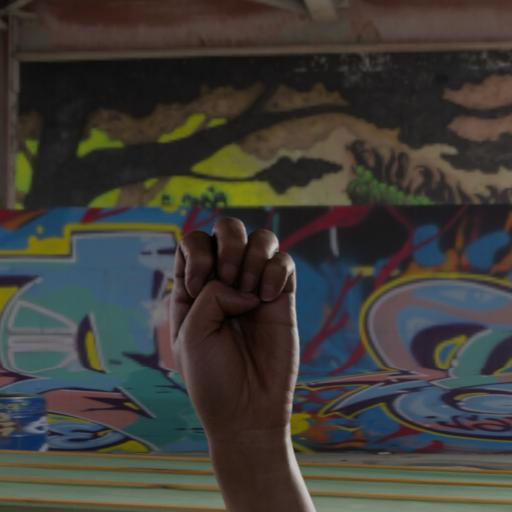E: (169, 213, 307, 430)
